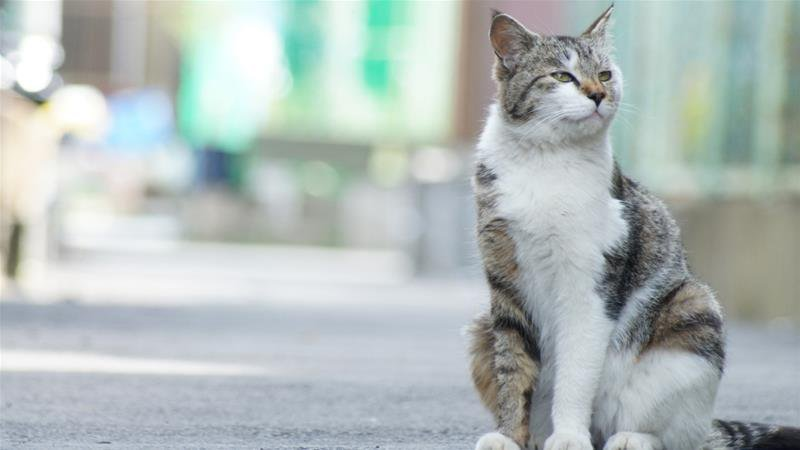cat: (480, 8, 772, 450)
